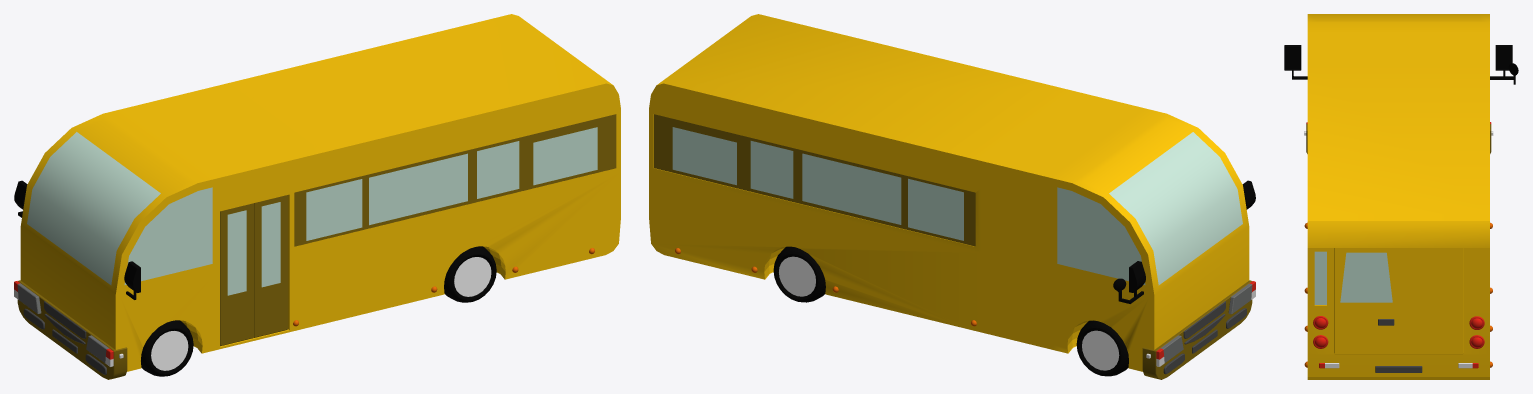
Rendered from Bus1.fbx.
3 views of the same model, side by side, from view 1: azimuth 30°, elevation 25°; view 2: azimuth 150°, elevation 25°; view 3: azimuth 270°, elevation 25° (orthographic). The views are drawn at different scales.
Parts seen in each view (by area): view 1: Bus, Cube.002, Door, Torus, Torus.001, Cube.006; view 2: Bus, Cube.004, Torus.001, Torus, Cube.006, Cube.019; view 3: Bus, Cube.005, Cube.019, Cube.018, Cube.013.
Boxes of the visible parts, <box> form: Bus: <box>20,14,620,371</box>; Cube.002: <box>294,114,616,246</box>; Door: <box>220,195,287,346</box>; Torus: <box>141,320,193,376</box>; Torus.001: <box>444,246,496,302</box>; Cube.006: <box>17,280,127,379</box>; Bus: <box>649,14,1249,371</box>; Cube.004: <box>654,114,975,246</box>; Torus.001: <box>773,246,825,302</box>; Torus: <box>1076,320,1128,376</box>; Cube.006: <box>1142,280,1252,379</box>; Cube.019: <box>1113,261,1145,303</box>; Bus: <box>1307,14,1489,379</box>; Cube.005: <box>1334,248,1463,354</box>; Cube.019: <box>1490,45,1518,84</box>; Cube.018: <box>1284,45,1307,79</box>; Cube.013: <box>1375,366,1422,372</box>.
Bounding box in the file's own units: 1051 × 373 × 431.
